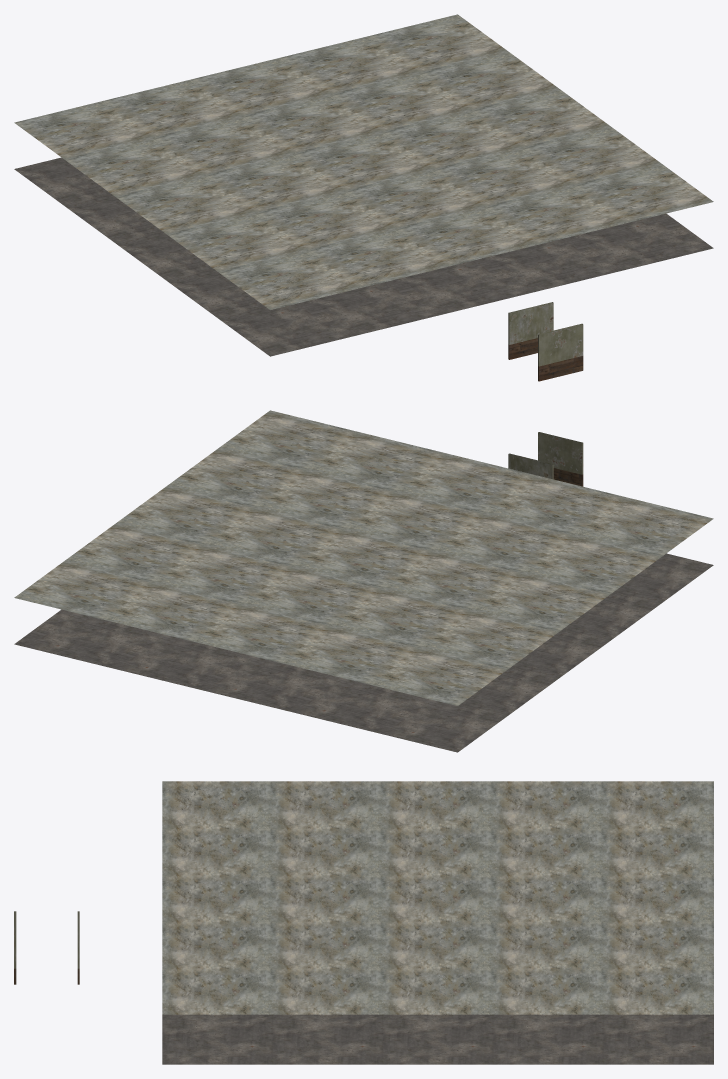
Rendered from Basement_Mapping.glb.
3 renders of one model, top to bottom at view 1: azimuth 30°, elevation 25°; view 2: azimuth 150°, elevation 25°; view 3: azimuth 270°, elevation 25°, orthographic. The views are drawn at different scales.
Visible parts, largest first — view 1: Ceil, Ground, Wall2, Wall1; view 2: Ceil, Ground, Wall2, Wall1; view 3: Ceil, Ground.
Part boxes in pixels (x1,y1,x2,y2): Ceil: [14, 14, 713, 309]; Ground: [14, 157, 713, 356]; Wall2: [538, 323, 583, 381]; Wall1: [508, 302, 553, 359]; Ceil: [14, 410, 713, 705]; Ground: [14, 553, 713, 752]; Wall2: [538, 432, 583, 486]; Wall1: [508, 453, 553, 479]; Ceil: [162, 781, 713, 1014]; Ground: [162, 1014, 713, 1064].
Bounding box in the file's own units: 100 × 15 × 127.
Materials: 5 (5 with a texture image).
